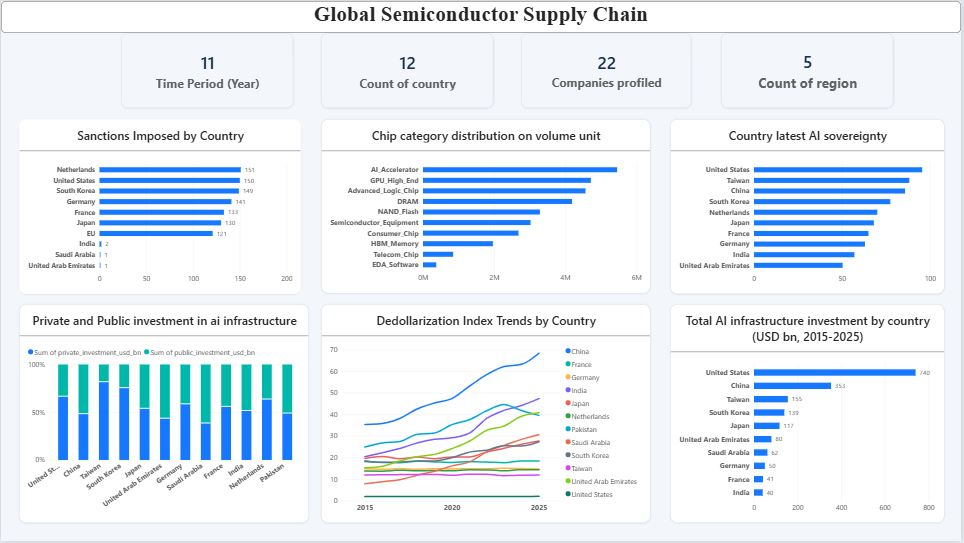

The dashboard page shown, as its layout file describes it:
{"tool":"powerbi","page":{"name":"Page 1","canvas":[2560,1440],"ordinal":0},"visuals":[{"type":"clusteredBarChart","title":"Sanctions Imposed by Country","fields":{"Category":["trade_sanctions_export_controls(BI).imposing_country"],"Y":["CountNonNull(trade_sanctions_export_controls(BI).imposing_country)"]},"box":[48.2,858.9,799.4,490],"z":0},{"type":"hundredPercentStackedColumnChart","title":"Private and Public investment in AI infrastructure","fields":{"Category":["national_ai_infrastructure_budgets(BI).country"],"Y":["Sum(national_ai_infrastructure_budgets(BI).private_investment_usd_bn)","Sum(national_ai_infrastructure_budgets(BI).public_investment_usd_bn)"]},"box":[1712.1,858.9,799.4,490],"z":1000},{"type":"clusteredBarChart","title":"Hardware type by volume (units)","fields":{"Category":["semiconductor_trade_flows(BI).hardware_type"],"Y":["Sum(semiconductor_trade_flows(BI).volume_units)"]},"box":[1712,300,800,526],"z":2000},{"type":"lineChart","title":"Dedollarization Index Trends by Country","fields":{"Category":["macroeconomic_indicators(BI).year"],"Series":["macroeconomic_indicators(BI).country"],"Y":["Sum(macroeconomic_indicators(BI).dedollarization_index)"]},"box":[878.7,858.9,802.2,490],"z":3000},{"type":"textbox","box":[0,0,2560,87],"z":4000},{"type":"clusteredBarChart","title":"AI sovereignty index by country, 2025","fields":{"Category":["national_ai_infrastructure_budgets(BI).country"],"Y":["Sum(national_ai_infrastructure_budgets(BI).ai_sovereignty_index)"]},"box":[48,300,800,526],"z":5000},{"type":"clusteredBarChart","title":"Total AI infrastructure investment by country (USD bn, 2015-2025)","fields":{"Category":["national_ai_infrastructure_budgets(BI).country"],"Y":["Sum(national_ai_infrastructure_budgets(BI).total_ai_investment_usd_bn)"]},"box":[880,300,800,526],"z":6000},{"type":"cardVisual","fields":{"Data":["Count(macroeconomic_indicators(BI).country)"]},"box":[672,120,592,143],"z":7000},{"type":"cardVisual","fields":{"Data":["Count(company_profiles(BI).company_name)"]},"box":[1920,120,545,144],"z":8000},{"type":"cardVisual","fields":{"Data":["Count(energy_grid_capacity(BI).region)"]},"box":[1296,120,592,144],"z":9000},{"type":"cardVisual","fields":{"Data":["Count(energy_grid_capacity(BI).year)"]},"box":[48,120,592,144],"z":10000},{"type":"textbox","box":[48,1390,2460,50],"z":10001}]}

Visuals, with their boxes in screenshot pixels (x1, y1, x2, y2), scaled from the page's 2560x1440 canvas onto the 964x543 screenshot:
"Sanctions Imposed by Country" clusteredBarChart: (18, 324, 319, 509)
"Private and Public investment in AI infrastructure" hundredPercentStackedColumnChart: (645, 324, 946, 509)
"Hardware type by volume (units)" clusteredBarChart: (645, 113, 946, 311)
"Dedollarization Index Trends by Country" lineChart: (331, 324, 633, 509)
textbox: (0, 0, 963, 33)
"AI sovereignty index by country, 2025" clusteredBarChart: (18, 113, 319, 311)
"Total AI infrastructure investment by country (USD bn, 2015-2025)" clusteredBarChart: (331, 113, 633, 311)
cardVisual - Count(macroeconomic_indicators(BI).country): (253, 45, 476, 99)
cardVisual - Count(company_profiles(BI).company_name): (723, 45, 928, 100)
cardVisual - Count(energy_grid_capacity(BI).region): (488, 45, 711, 100)
cardVisual - Count(energy_grid_capacity(BI).year): (18, 45, 241, 100)
textbox: (18, 524, 944, 542)
